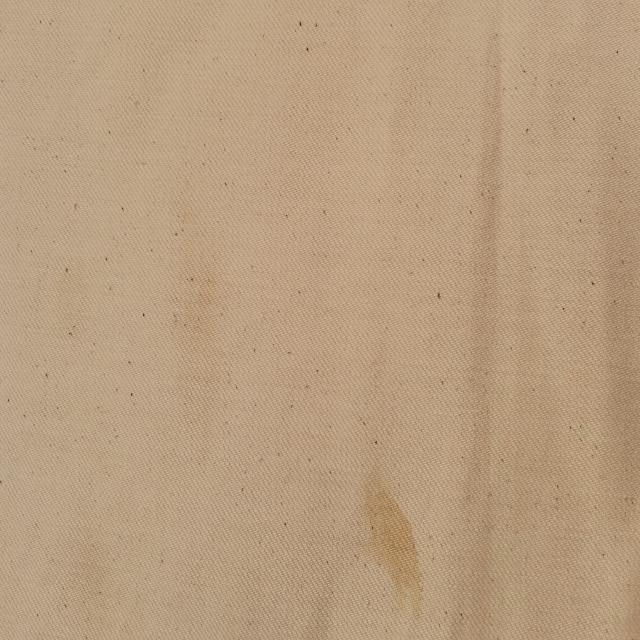taaaches: (358, 462, 426, 614)
